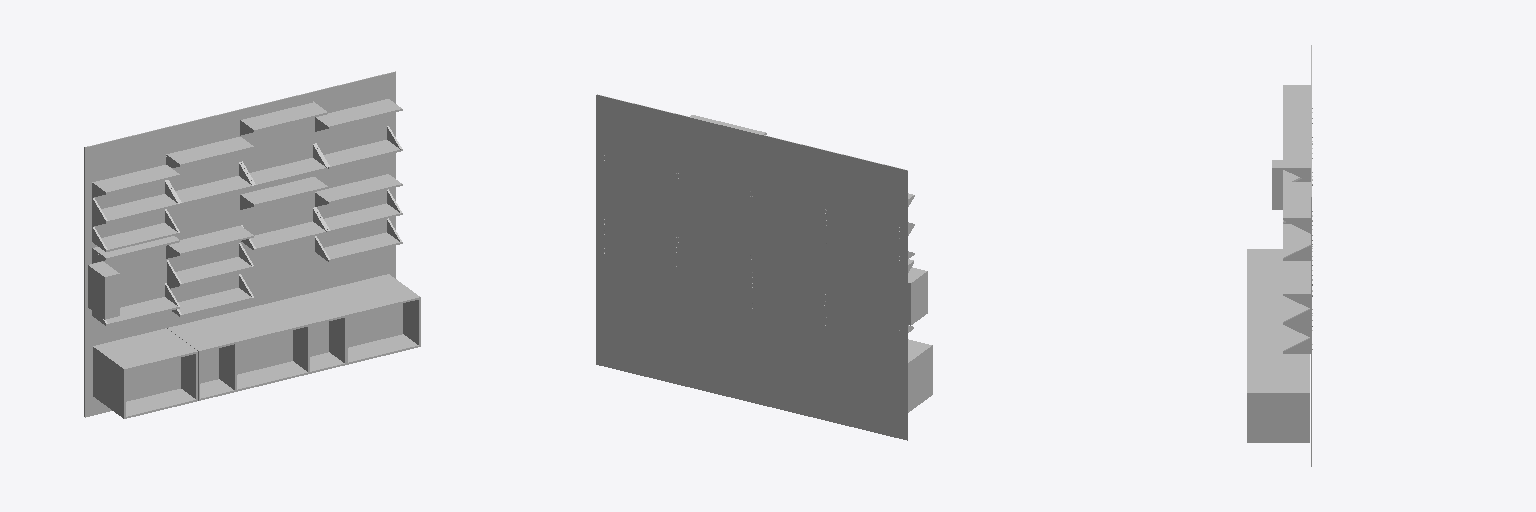
File: book.obj
The picture shows the model from 3 angles: view 1: azimuth 30°, elevation 25°; view 2: azimuth 150°, elevation 25°; view 3: azimuth 270°, elevation 25°; orthographic projection.
Visible parts, largest first — view 1: Bookshelf_Rail, Bookshelf_Design_6__Double__3_Sections_2, Wall_Border, Bookshelf_Design_1__Open_6, Bookshelf_Design_1__Open_7, Bookshelf_Design_6__Double__3_Sections_1, Bookshelf_Design_1__Open_3, Water_Heater, Merged_Meshes19, Merged_Meshes14, Merged_Meshes6, Merged_Meshes10 (+17 smaller); view 2: Bookshelf_Rail, Wall_Border, Bookshelf_Design_1__Open_6, Water_Heater; view 3: Bookshelf_Design_1__Open_7, Bookshelf_Design_1__Open_1, Bookshelf_Design_6__Double__3_Sections_2, Merged_Meshes10, Merged_Meshes17, Merged_Meshes11, Bookshelf_Design_1__Open_6, Merged_Meshes16, Merged_Meshes13, Merged_Meshes14, Merged_Meshes18, Water_Heater.
Part boxes in pixels (x1,y1,x2,y2): Bookshelf_Rail: (92,83,388,415); Bookshelf_Design_6__Double__3_Sections_2: (183,304,346,400); Wall_Border: (84,71,395,417); Bookshelf_Design_1__Open_6: (108,340,197,418); Bookshelf_Design_1__Open_7: (332,286,420,364); Bookshelf_Design_6__Double__3_Sections_1: (167,292,330,339); Bookshelf_Design_1__Open_3: (93,328,181,406); Water_Heater: (88,261,119,319); Merged_Meshes19: (92,209,179,251); Merged_Meshes14: (315,218,402,261); Merged_Meshes6: (240,177,327,209); Merged_Meshes10: (240,102,327,135); Bookshelf_Rail: (604,106,899,438); Wall_Border: (596,94,907,440); Bookshelf_Design_1__Open_6: (908,339,932,405); Water_Heater: (908,267,927,325); Bookshelf_Design_1__Open_7: (1247,357,1278,442); Bookshelf_Design_1__Open_1: (1278,357,1309,442); Bookshelf_Design_6__Double__3_Sections_2: (1247,285,1278,356); Merged_Meshes10: (1283,131,1310,181); Merged_Meshes17: (1283,182,1310,233); Merged_Meshes11: (1283,261,1310,308); Bookshelf_Design_1__Open_6: (1247,249,1278,284); Merged_Meshes16: (1283,216,1312,260); Merged_Meshes13: (1283,85,1310,110); Merged_Meshes14: (1283,309,1312,353); Merged_Meshes18: (1283,111,1310,130); Water_Heater: (1272,160,1282,209).
Size of the model in its own units: 338 by 280 by 61.88.